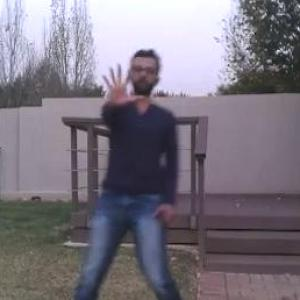follow_hand: (99, 60, 145, 107)
